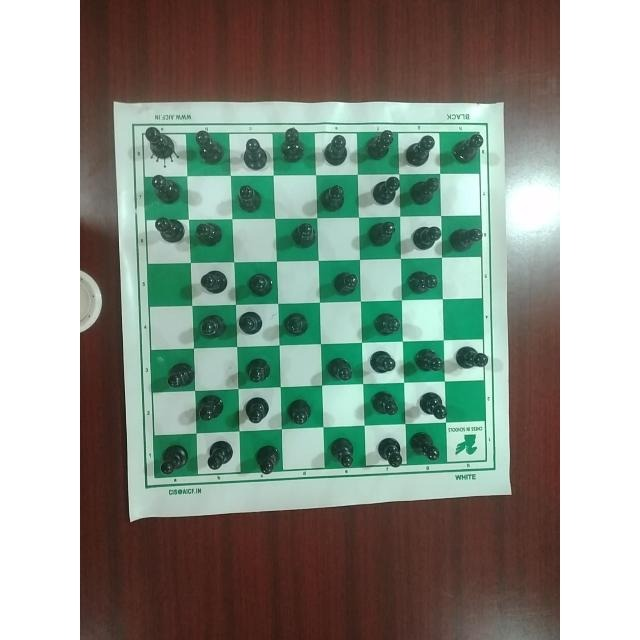black-pawn: (365, 170, 406, 211), (147, 215, 187, 256), (319, 263, 361, 302), (232, 179, 272, 219), (238, 350, 278, 390), (190, 216, 229, 257), (320, 125, 354, 172), (140, 120, 176, 164), (314, 177, 354, 216), (408, 173, 447, 213), (452, 341, 491, 380), (242, 264, 282, 302), (403, 127, 438, 170), (282, 389, 316, 433), (362, 218, 402, 255), (279, 121, 311, 167), (190, 126, 225, 168), (235, 133, 272, 172), (193, 308, 234, 343), (415, 385, 453, 422), (283, 215, 318, 255), (144, 173, 185, 207), (446, 130, 485, 165), (409, 343, 448, 378), (193, 124, 222, 170), (146, 172, 183, 208), (447, 132, 484, 168), (445, 219, 481, 256), (405, 263, 441, 300), (367, 174, 403, 210), (322, 352, 358, 388), (142, 124, 176, 162), (196, 264, 230, 302), (410, 218, 442, 258), (150, 213, 186, 248), (196, 392, 228, 431), (364, 307, 404, 338), (364, 126, 398, 162), (234, 308, 270, 342), (282, 307, 316, 343), (201, 438, 237, 472), (447, 222, 485, 254), (196, 264, 231, 298), (369, 387, 403, 422), (403, 132, 436, 168), (284, 392, 317, 428), (371, 435, 404, 471), (412, 391, 450, 422), (361, 129, 395, 163), (364, 218, 398, 252), (368, 390, 402, 424), (409, 430, 444, 463), (194, 311, 230, 343), (367, 307, 403, 339), (164, 357, 196, 393), (278, 127, 308, 165), (408, 220, 442, 253), (408, 174, 440, 209), (237, 134, 268, 170), (243, 393, 274, 429), (321, 181, 350, 219), (237, 308, 270, 341), (160, 358, 193, 391), (195, 392, 227, 426), (157, 444, 191, 476), (322, 132, 349, 172), (239, 356, 272, 388), (328, 434, 357, 470), (327, 267, 359, 299), (327, 354, 359, 386), (368, 345, 400, 377), (192, 218, 225, 249), (241, 269, 274, 300), (242, 394, 272, 428), (406, 266, 438, 297), (250, 444, 281, 476), (452, 343, 488, 370), (279, 309, 310, 340), (287, 222, 317, 254), (413, 348, 444, 378), (234, 182, 262, 213), (371, 350, 397, 380)
